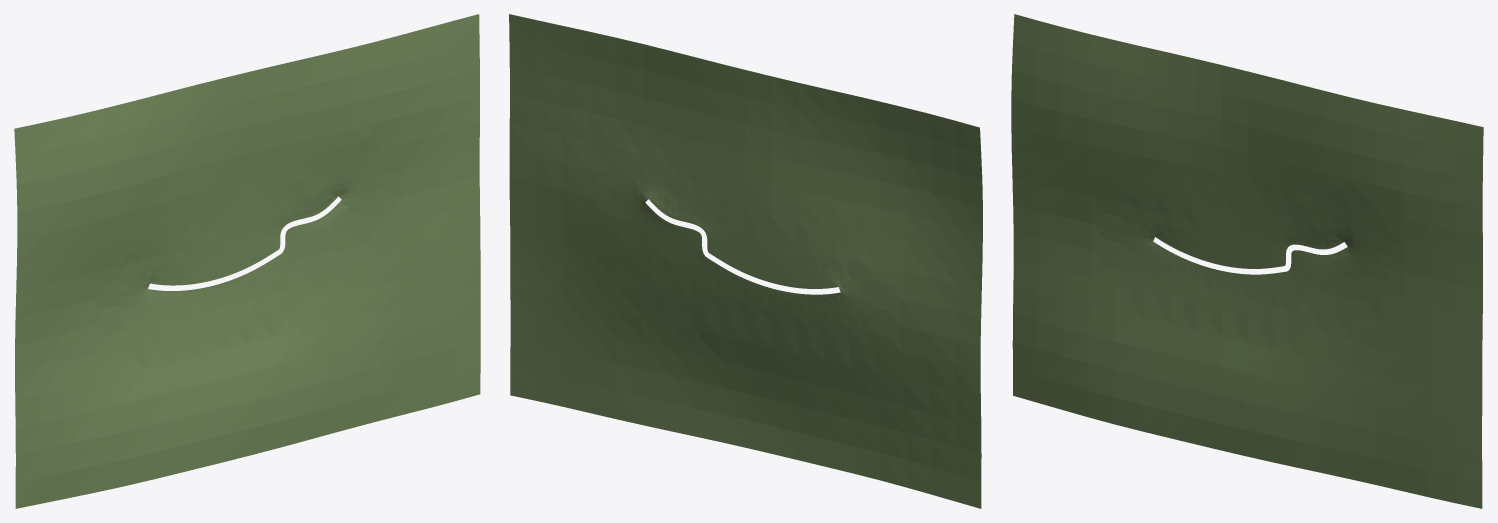
The picture shows the model from 3 angles, left to right: view 1: azimuth 30°, elevation 25°; view 2: azimuth 150°, elevation 25°; view 3: azimuth 330°, elevation 25°; orthographic projection.
Visible parts, largest first — view 1: Background; view 2: Background; view 3: Background.
Boxes of the visible parts, box(x1,y1,x2,y2) form: Background: box(14, 14, 480, 508); Background: box(509, 14, 982, 508); Background: box(1011, 14, 1483, 508).
Bounding box in the file's own units: 720 × 560 × 21.59.
